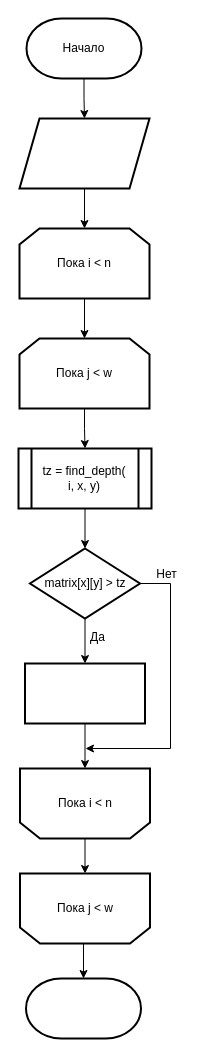
Some shapes in this 203 by 1056 pixel diagram are drawn without their labels. The shapes that lost their labels are listed below. From the top down, each one's centre as x and y in pixels, then its label:
At (x=84, y=153): "matrix: int[w][h] polygons: pol_t[]".
At (x=85, y=693): "matrix[x][y] = tz".
At (x=83, y=1008): "Конец".
